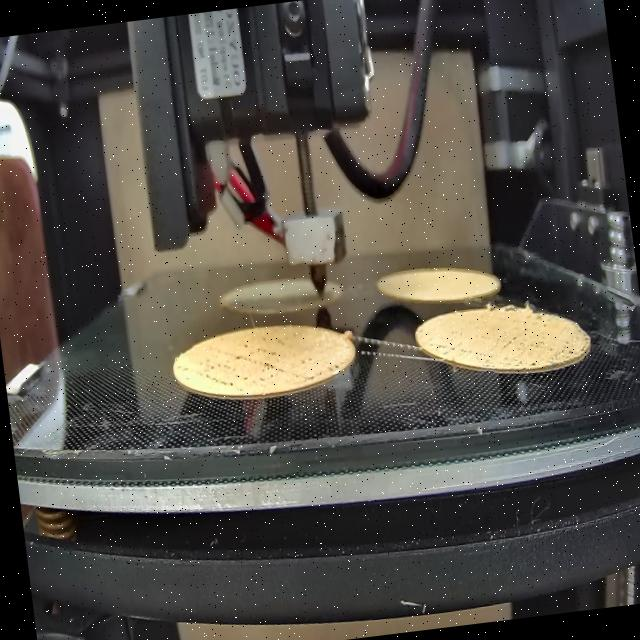under_extrusion: (202, 342, 285, 392), (500, 319, 573, 368), (430, 338, 488, 368), (297, 352, 339, 393)
